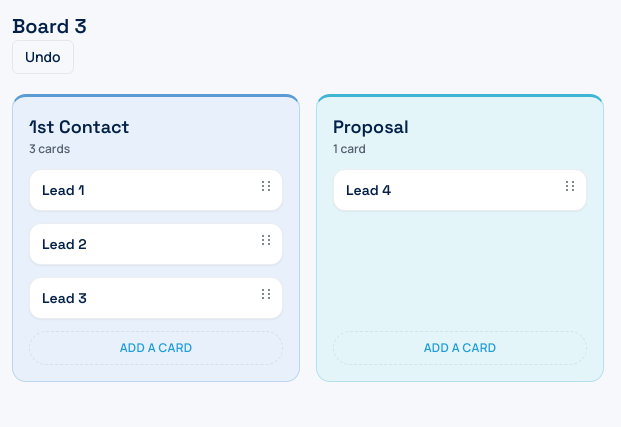
Test: CentralBoardView undo › handles 403 without retrying the undo
Click the button "Undo" at (43, 57), box 12,40 -> 74,74
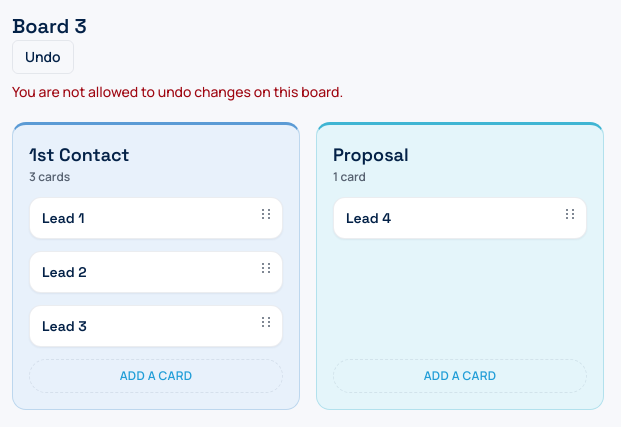
expect the text "Lead 1" is shown: met, box 42,209 -> 84,227
expect the message with test id "undo-notice" shows "not allowed to undo": met, box 12,82 -> 343,101
